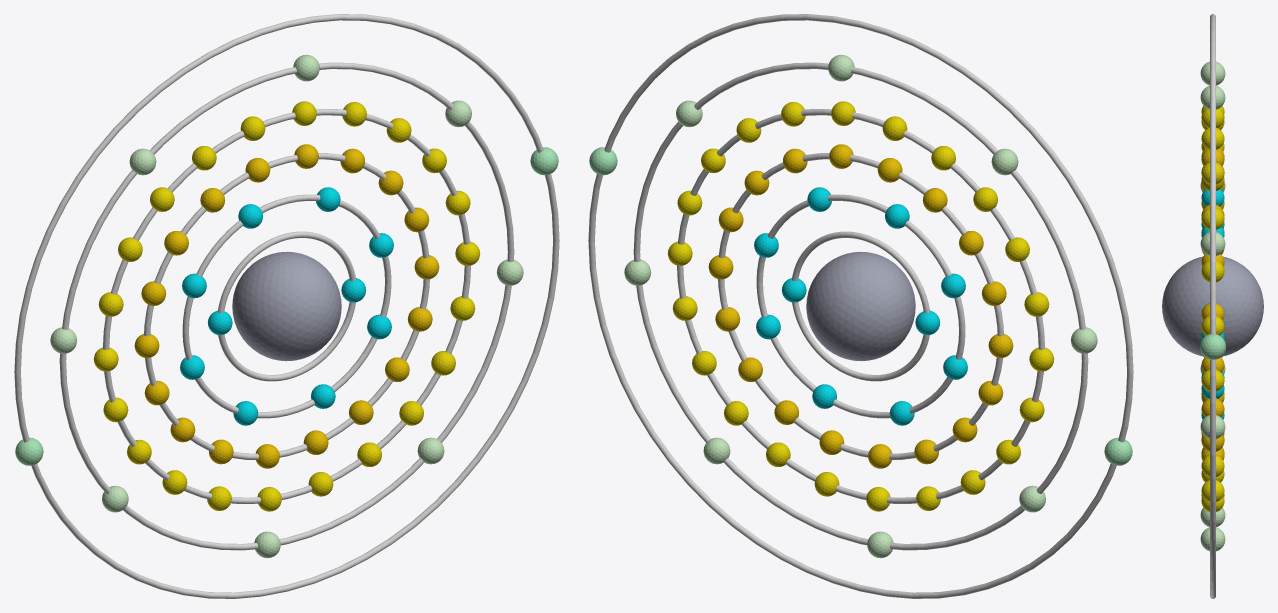
The picture shows the model from 3 angles, left to right: view 1: azimuth 30°, elevation 25°; view 2: azimuth 150°, elevation 25°; view 3: azimuth 270°, elevation 25°; orthographic projection. The views are drawn at different scales.
Parts seen in each view (by area): view 1: world; view 2: world; view 3: world.
Part boxes in pixels (<box>): world: <box>14,14,559,598</box>; world: <box>588,14,1133,598</box>; world: <box>1162,14,1263,598</box>.
Size of the model in its own units: 2.53 by 2.53 by 0.44.
